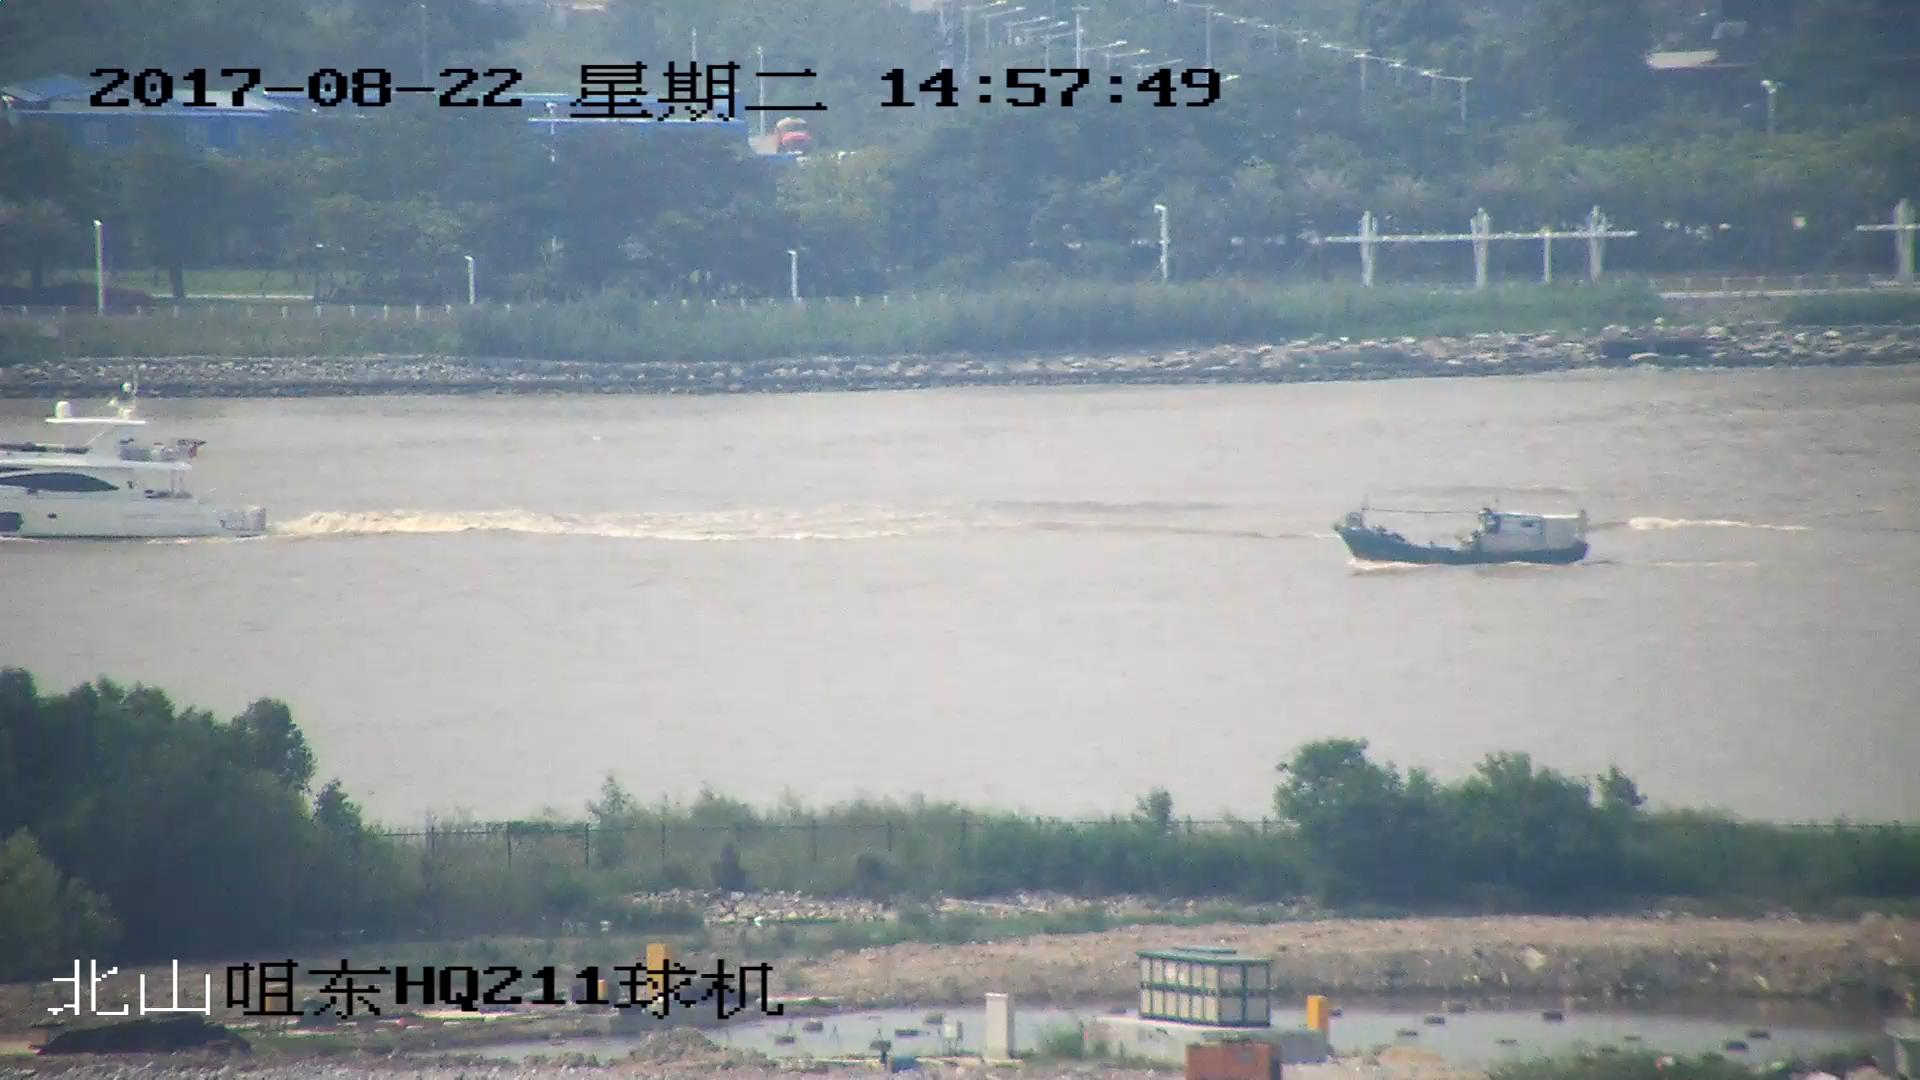fishing boat: (1330, 495, 1592, 571)
passenger ship: (1, 387, 266, 543)
